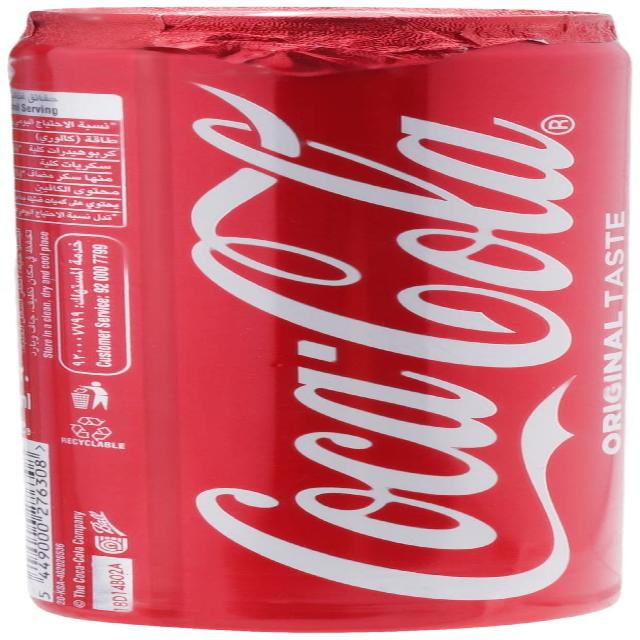cocacola: (8, 1, 632, 640)
